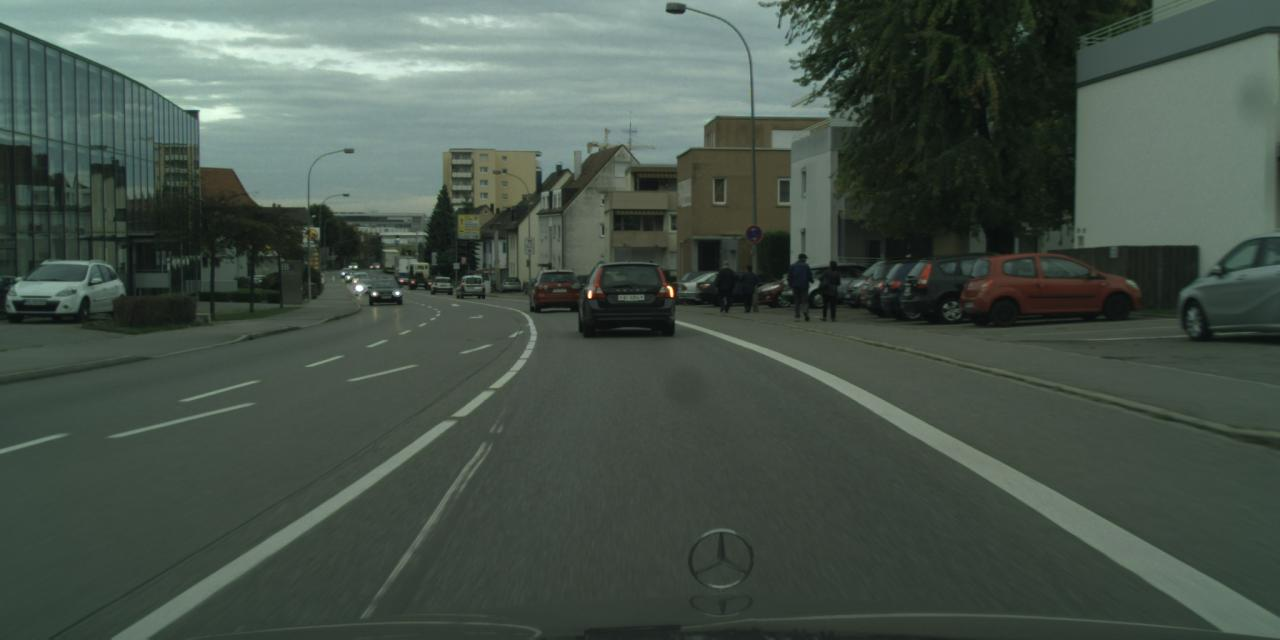ped: (788, 253, 815, 319), (818, 260, 842, 320), (714, 260, 735, 311), (738, 264, 758, 311)
